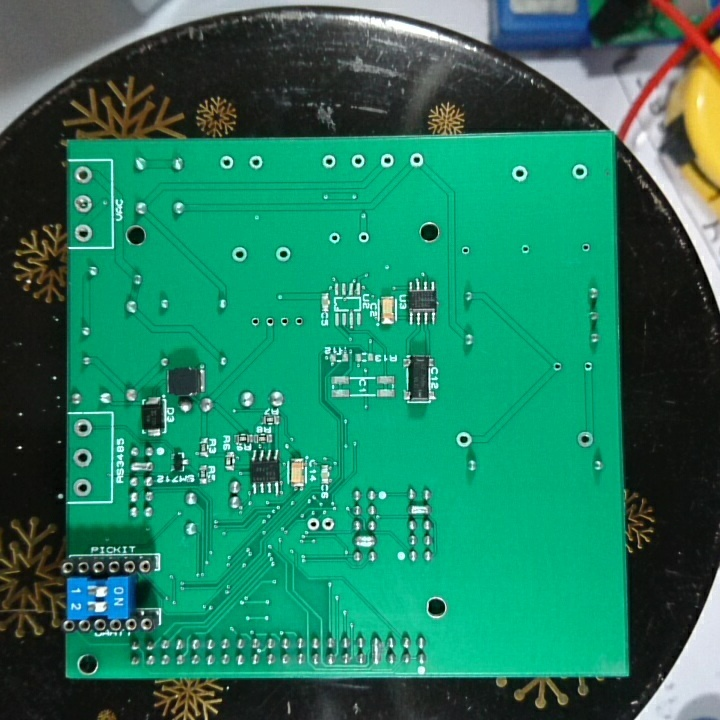F: (70, 192, 96, 217), (72, 163, 96, 190), (70, 447, 96, 471), (508, 163, 533, 186), (71, 418, 97, 438), (71, 476, 96, 496), (73, 221, 94, 244), (246, 153, 269, 174), (570, 160, 590, 184), (453, 429, 474, 451), (229, 243, 250, 265), (574, 429, 595, 449), (217, 152, 237, 173), (319, 152, 340, 172), (348, 152, 368, 172), (406, 150, 427, 169), (319, 516, 339, 535), (377, 152, 396, 171), (272, 243, 288, 265), (306, 513, 321, 535), (516, 241, 534, 259), (290, 314, 307, 333), (458, 243, 476, 259), (580, 359, 597, 375), (355, 229, 370, 247), (248, 313, 262, 330), (278, 312, 290, 330), (550, 360, 566, 373), (326, 231, 341, 244), (264, 315, 276, 331), (579, 240, 590, 255)
P: (404, 500, 432, 518), (369, 632, 383, 667), (129, 460, 155, 476), (351, 532, 379, 545)
